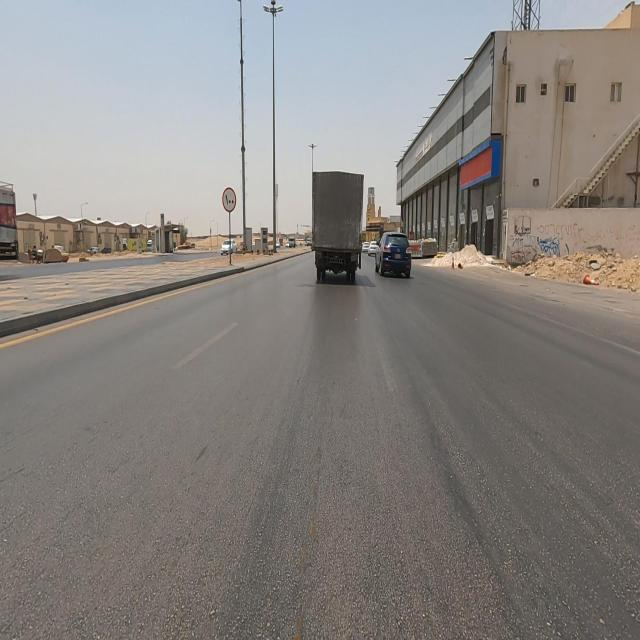Graffiti: (536, 224, 640, 255), (511, 215, 532, 261)
